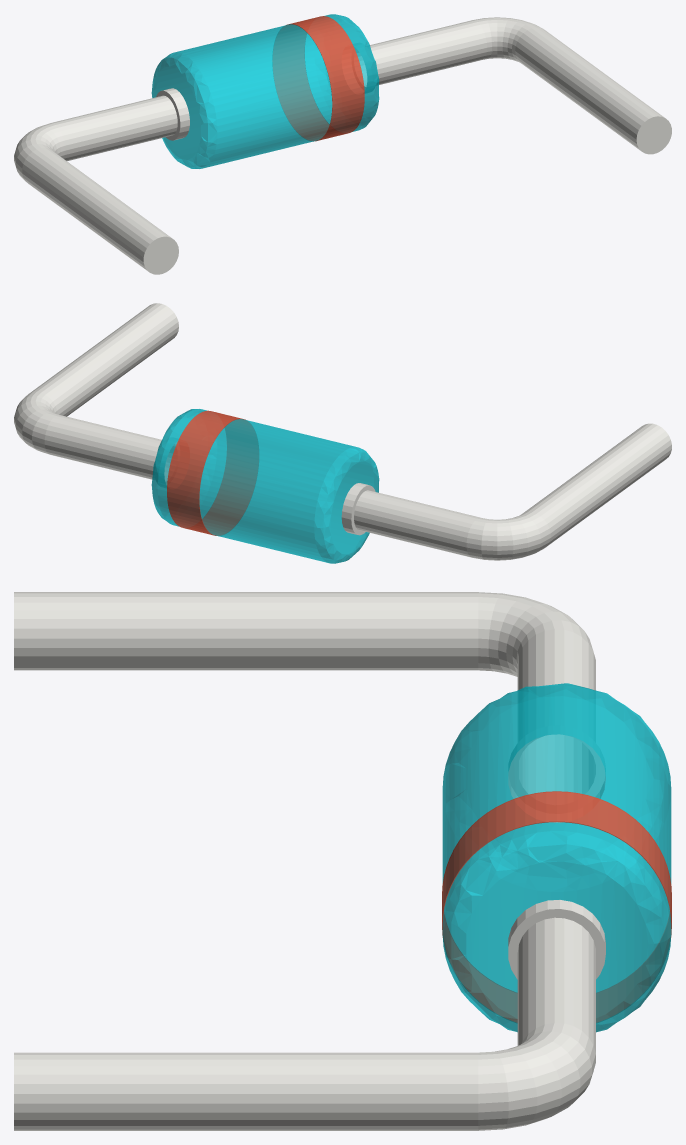
The model's file is D_DO-34_SOD68_P7.62mm_Horizontal.glb.
3 renders of one model, top to bottom at view 1: azimuth 30°, elevation 25°; view 2: azimuth 150°, elevation 25°; view 3: azimuth 270°, elevation 25°, orthographic. The views are drawn at different scales.
Visible parts, largest first — view 1: Shape_IndexedFaceSet.012, Shape_IndexedFaceSet.010, Shape_IndexedFaceSet, Shape_IndexedFaceSet.019, Shape_IndexedFaceSet.003, Shape_IndexedFaceSet.017, Shape_IndexedFaceSet.013, Shape_IndexedFaceSet.008, Shape_IndexedFaceSet.014, Shape_IndexedFaceSet.002, Shape_IndexedFaceSet.007, Shape_IndexedFaceSet.018 (+5 smaller); view 2: Shape_IndexedFaceSet.012, Shape_IndexedFaceSet.010, Shape_IndexedFaceSet.019, Shape_IndexedFaceSet, Shape_IndexedFaceSet.003, Shape_IndexedFaceSet.017, Shape_IndexedFaceSet.018, Shape_IndexedFaceSet.013, Shape_IndexedFaceSet.008, Shape_IndexedFaceSet.014, Shape_IndexedFaceSet.002, Shape_IndexedFaceSet.007 (+3 smaller); view 3: Shape_IndexedFaceSet.012, Shape_IndexedFaceSet, Shape_IndexedFaceSet.019, Shape_IndexedFaceSet.014, Shape_IndexedFaceSet.006, Shape_IndexedFaceSet.007, Shape_IndexedFaceSet.013, Shape_IndexedFaceSet.010, Shape_IndexedFaceSet.017, Shape_IndexedFaceSet.002, Shape_IndexedFaceSet.003, Shape_IndexedFaceSet.018 (+5 smaller).
Boxes of the visible parts, x1,y1,x2,y2 form: Shape_IndexedFaceSet.012: [158, 24, 332, 168]; Shape_IndexedFaceSet.010: [272, 16, 364, 140]; Shape_IndexedFaceSet: [515, 27, 664, 150]; Shape_IndexedFaceSet.019: [22, 148, 172, 272]; Shape_IndexedFaceSet.003: [356, 20, 486, 86]; Shape_IndexedFaceSet.017: [51, 95, 177, 160]; Shape_IndexedFaceSet.013: [151, 52, 217, 168]; Shape_IndexedFaceSet.008: [305, 14, 373, 131]; Shape_IndexedFaceSet.014: [153, 66, 200, 159]; Shape_IndexedFaceSet.002: [473, 17, 542, 62]; Shape_IndexedFaceSet.007: [314, 14, 379, 130]; Shape_IndexedFaceSet.018: [14, 123, 65, 180]; Shape_IndexedFaceSet.012: [199, 419, 373, 563]; Shape_IndexedFaceSet.010: [167, 410, 258, 535]; Shape_IndexedFaceSet.019: [522, 423, 671, 547]; Shape_IndexedFaceSet: [29, 303, 178, 416]; Shape_IndexedFaceSet.003: [44, 415, 175, 481]; Shape_IndexedFaceSet.017: [354, 490, 479, 557]; Shape_IndexedFaceSet.018: [466, 512, 550, 560]; Shape_IndexedFaceSet.013: [314, 447, 379, 563]; Shape_IndexedFaceSet.008: [157, 409, 226, 526]; Shape_IndexedFaceSet.014: [330, 461, 378, 554]; Shape_IndexedFaceSet.002: [14, 392, 59, 453]; Shape_IndexedFaceSet.007: [151, 409, 216, 525]; Shape_IndexedFaceSet.012: [442, 685, 671, 992]; Shape_IndexedFaceSet: [14, 1052, 478, 1130]; Shape_IndexedFaceSet.019: [14, 592, 478, 670]; Shape_IndexedFaceSet.014: [466, 696, 647, 860]; Shape_IndexedFaceSet.006: [466, 861, 648, 1018]; Shape_IndexedFaceSet.007: [442, 831, 671, 1032]; Shape_IndexedFaceSet.013: [443, 683, 670, 891]; Shape_IndexedFaceSet.010: [442, 791, 671, 1022]; Shape_IndexedFaceSet.017: [517, 629, 595, 794]; Shape_IndexedFaceSet.002: [478, 1023, 595, 1130]; Shape_IndexedFaceSet.003: [517, 917, 595, 1052]; Shape_IndexedFaceSet.018: [478, 592, 593, 676].
Bounding box in the file's own units: 3.21 × 0.6339 × 1.81.
